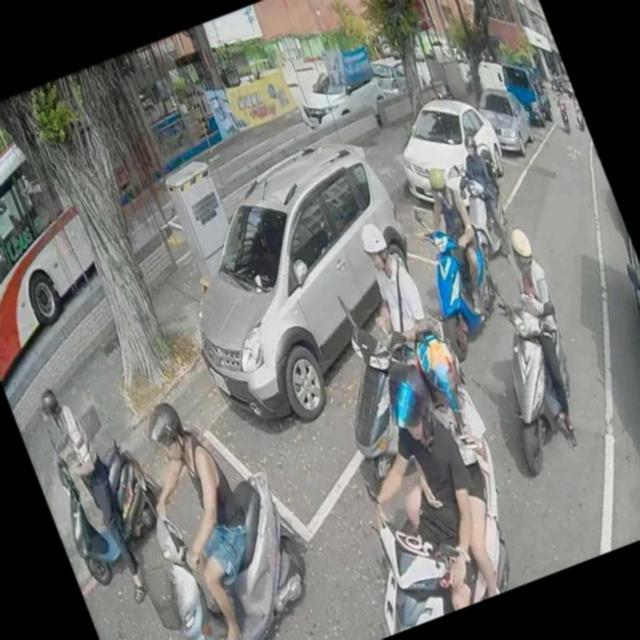person: (312, 349, 516, 630), (354, 322, 534, 610), (114, 382, 290, 640), (480, 217, 605, 454), (30, 377, 156, 611), (338, 212, 442, 378), (402, 152, 502, 322), (451, 128, 528, 264), (566, 88, 582, 112), (552, 89, 564, 106)
